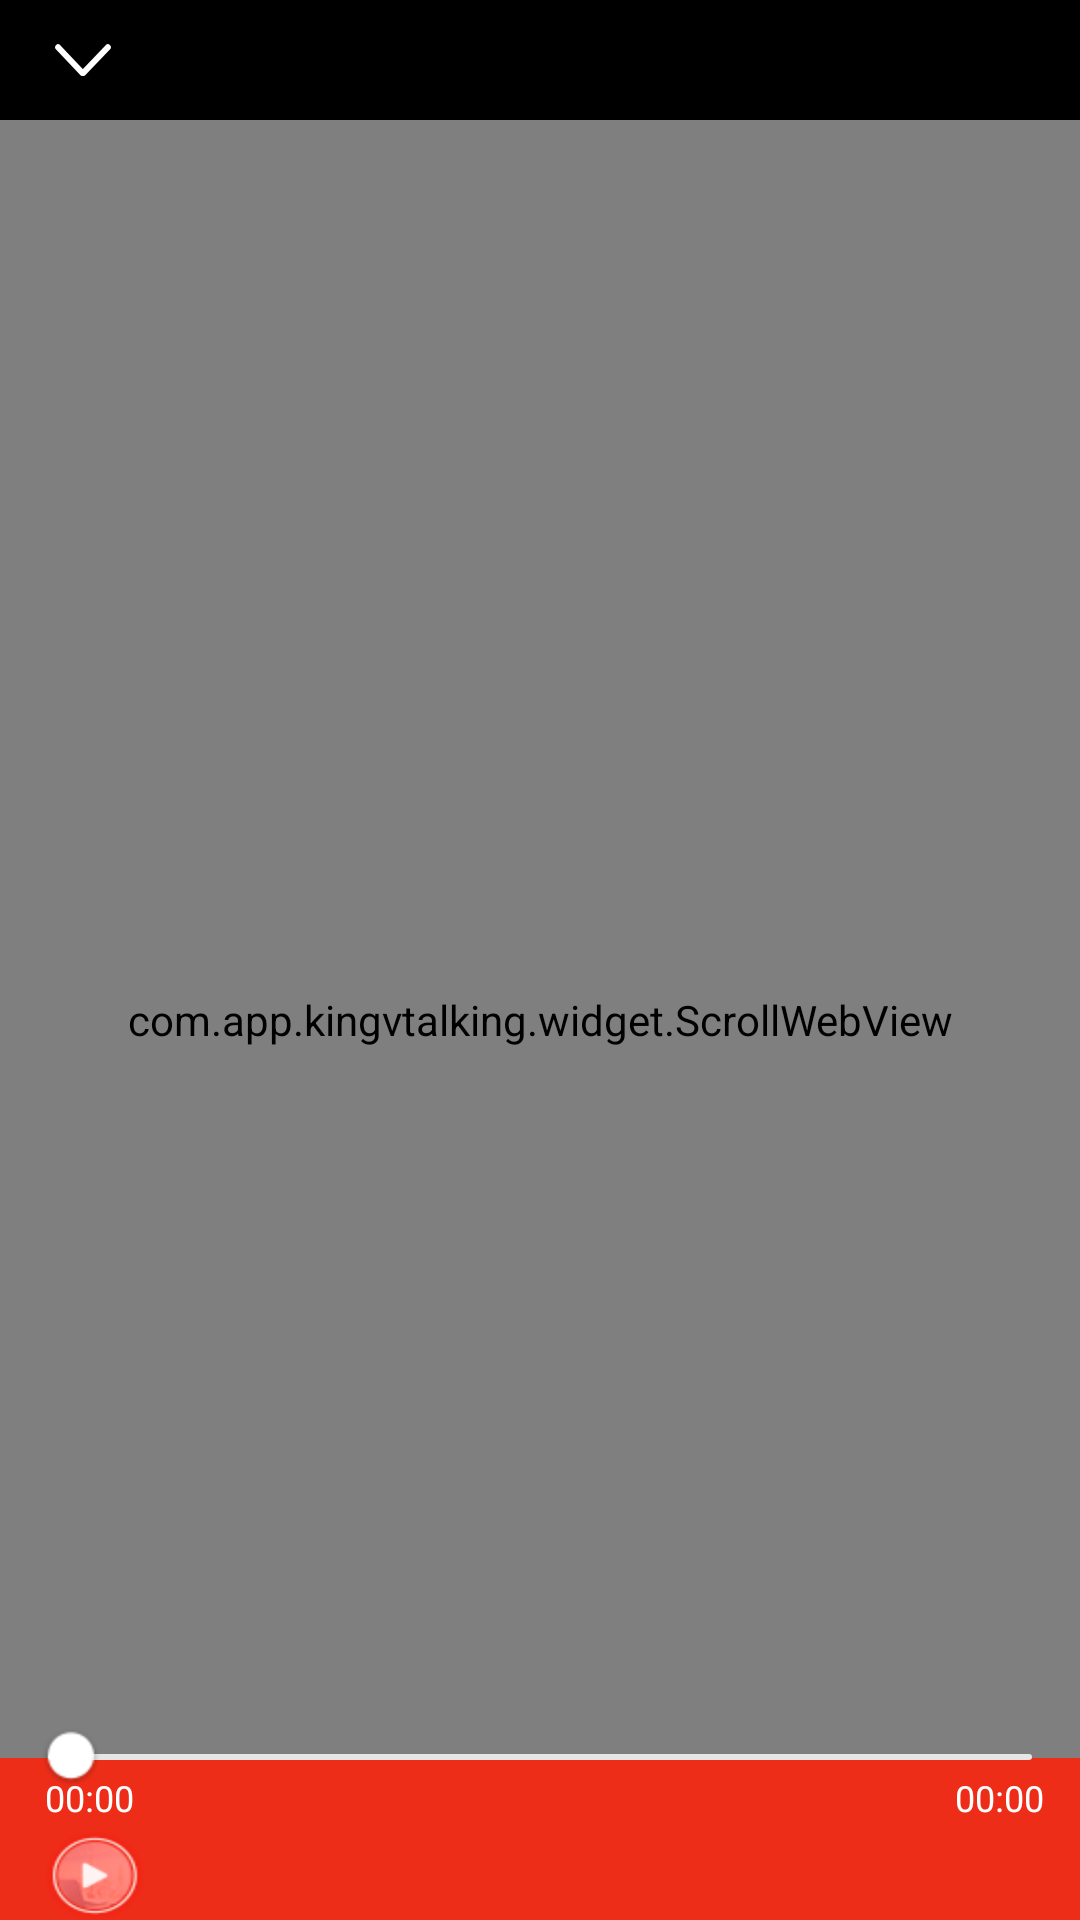

Locate icon controls on the screen. Image size 1080 x 1920, boxes as (x1, y1, x2, y2).
play: (52, 1837, 138, 1914)
